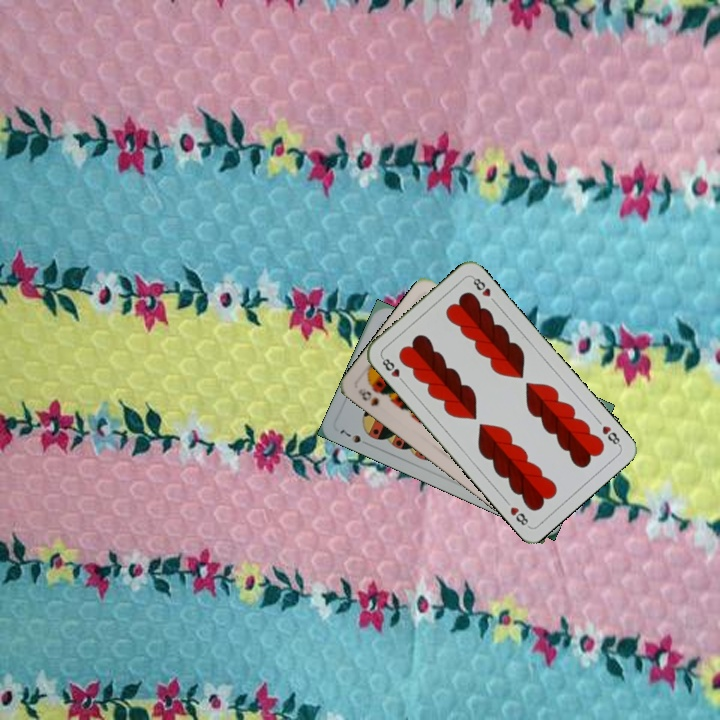H8: (377, 353, 408, 387), (598, 422, 623, 449)
S7: (336, 425, 373, 449)
S8: (354, 384, 382, 409)
